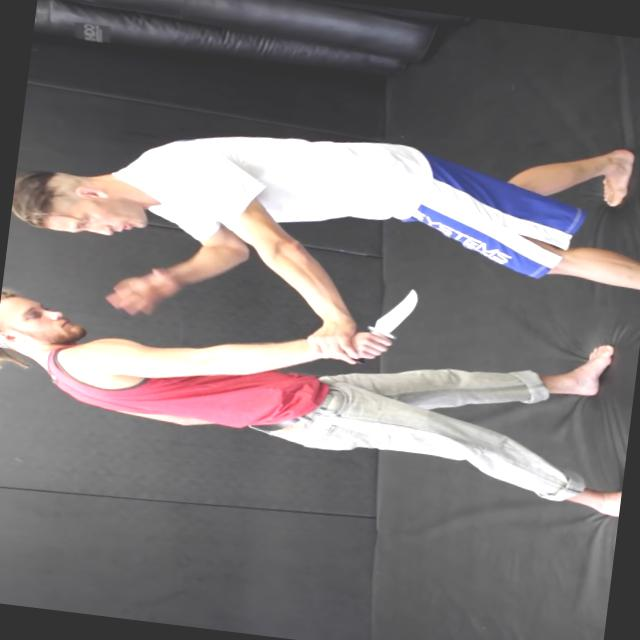knife: (347, 278, 428, 372)
